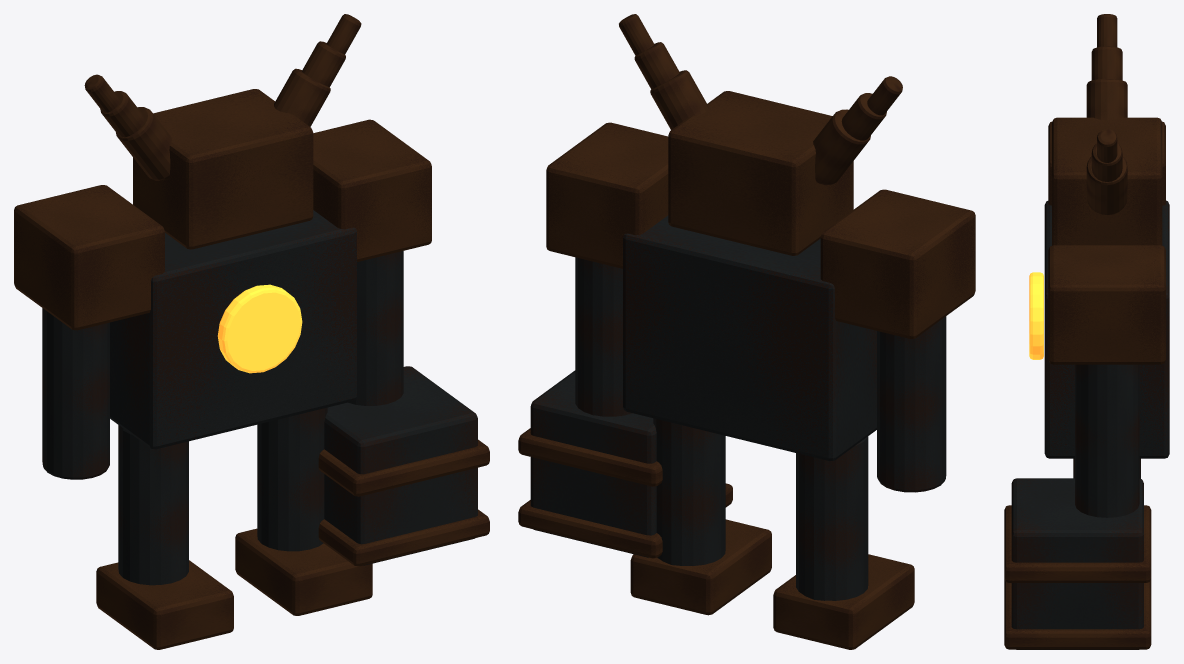
The model's file is minotaur_v04.glb.
The picture shows the model from 3 angles, left to right: view 1: azimuth 30°, elevation 25°; view 2: azimuth 150°, elevation 25°; view 3: azimuth 270°, elevation 25°; orthographic projection. The views are drawn at different scales.
Visible parts, largest first — view 1: Minotaur; view 2: Minotaur; view 3: Minotaur.
Part boxes in pixels (<box>): Minotaur: <box>14,14,489,649</box>; Minotaur: <box>518,14,975,649</box>; Minotaur: <box>1004,14,1169,649</box>.
Bounding box in the file's own units: 2.96 × 3.93 × 1.12.
3 materials, 2 textured.
